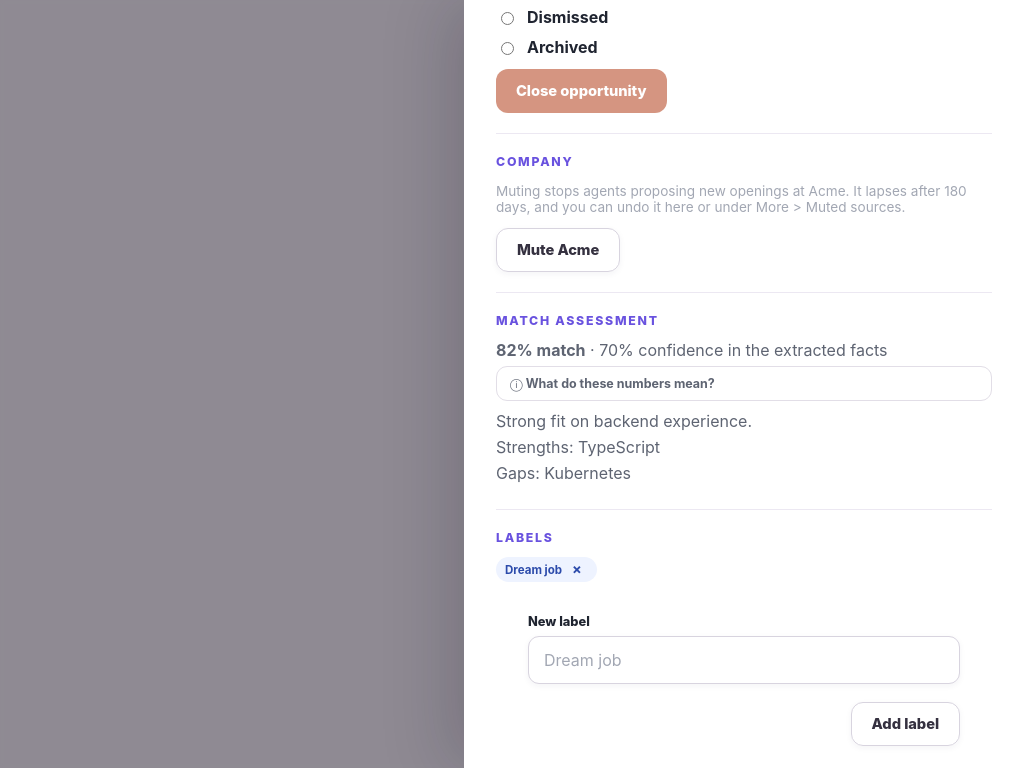
OpportunityDetail › explains that the score is the agent's estimate, not an UpgradR calculation
(page scrolled)
Expected: the text "82% match" is shown, [496,340,586,360]
Expected: the text "82% match · 70% confidence in the extracted facts" is shown, [496,340,888,360]
Click the heading "ⓘ What do these numbers mean?".
click(612, 384)  # box [510,376,715,392]
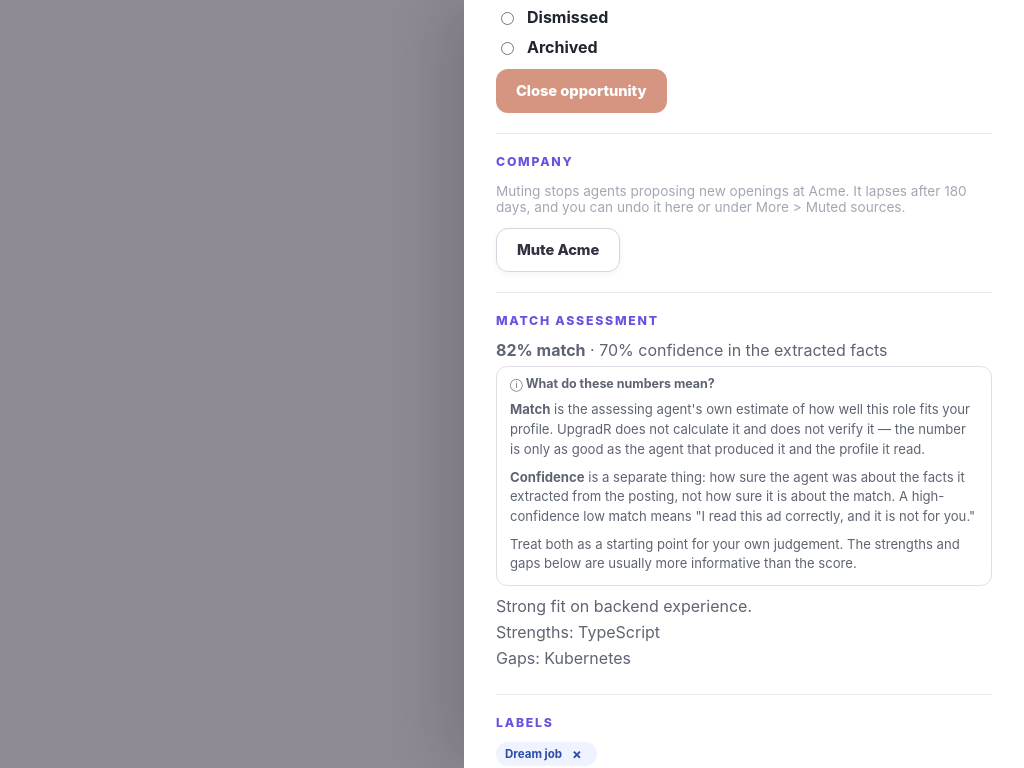
Result: the text "UpgradR does not calculate it and does not verify it" is shown at [510,402,970,457]
